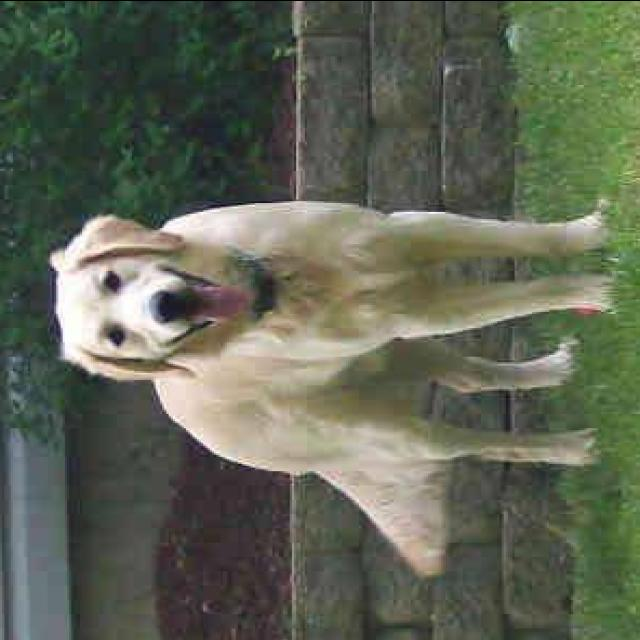golden: (28, 182, 296, 418)
